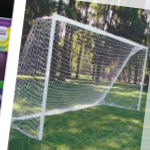goals: (14, 12, 149, 142)
